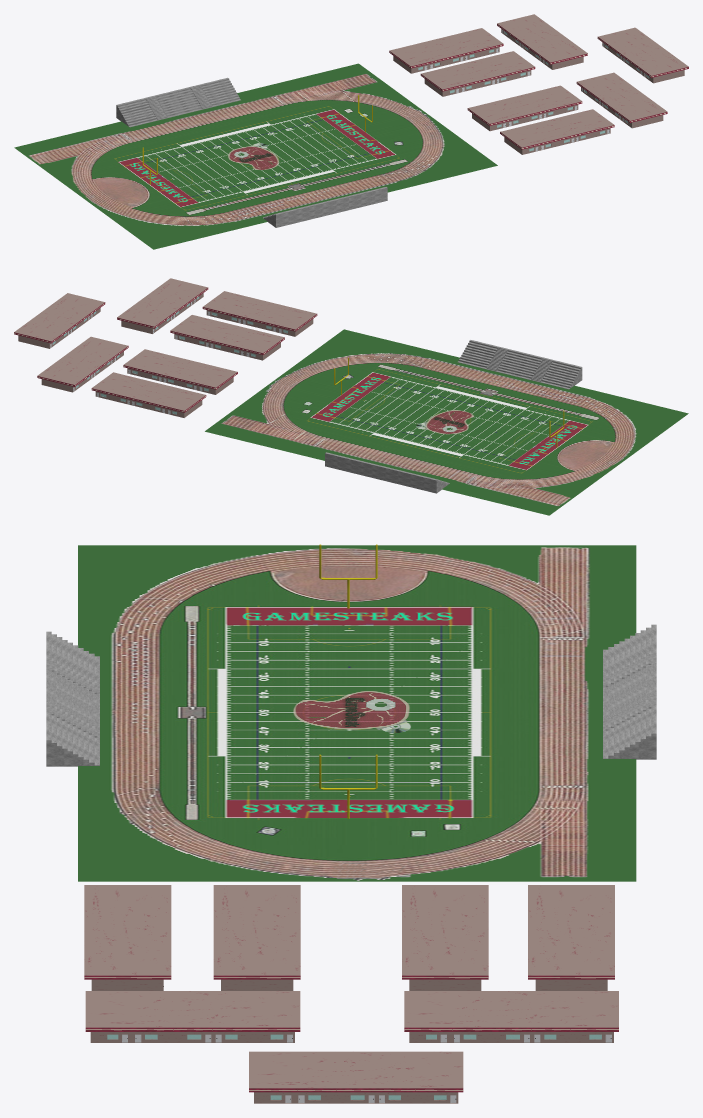
The model's file is school.fbx.
3 renders of one model, top to bottom at view 1: azimuth 30°, elevation 25°; view 2: azimuth 150°, elevation 25°; view 3: azimuth 270°, elevation 25°, orthographic. The views are drawn at different scales.
Parts seen in each view (by area): view 1: Plane, Cube_1, Cube_3, Cube_5, Cube_2, Cube_6, School_buildings, Cube_7, Cube_4, Stand; view 2: Plane, Stand, Cube_2, Cube_6, Cube_5, Cube_3, School_buildings, Cube_7, Cube_4, Cube_1; view 3: Plane, School_buildings, Cube_7, Cube_4, Cube_6, Cube_5, Cube_3, Cube_2, Stand, Cube_1.
Part boxes in pixels (x1,y1,x2,y2): Plane: [14, 63, 497, 249]; Cube_1: [116, 77, 240, 127]; Cube_3: [420, 51, 535, 96]; Cube_5: [467, 85, 582, 131]; Cube_2: [389, 28, 503, 73]; Cube_6: [500, 109, 614, 154]; School_buildings: [597, 27, 688, 83]; Cube_7: [576, 72, 667, 128]; Cube_4: [497, 14, 587, 69]; Stand: [263, 187, 387, 227]; Plane: [205, 329, 688, 515]; Stand: [457, 340, 582, 389]; Cube_2: [91, 372, 206, 417]; Cube_6: [202, 291, 317, 336]; Cube_5: [170, 315, 284, 360]; Cube_3: [123, 349, 237, 394]; School_buildings: [14, 293, 105, 348]; Cube_7: [117, 278, 208, 333]; Cube_4: [37, 336, 128, 392]; Cube_1: [325, 452, 449, 493]; Plane: [78, 545, 636, 881]; School_buildings: [249, 1051, 463, 1103]; Cube_7: [85, 991, 300, 1042]; Cube_4: [404, 991, 618, 1042]; Cube_6: [84, 885, 171, 990]; Cube_5: [213, 885, 300, 990]; Cube_3: [402, 885, 488, 990]; Cube_2: [528, 885, 614, 990]; Stand: [46, 631, 99, 766]; Cube_1: [603, 624, 656, 759].
Size of the model in its own units: 32785 by 1729 by 14993.
Materials: 4 (3 with a texture image).
